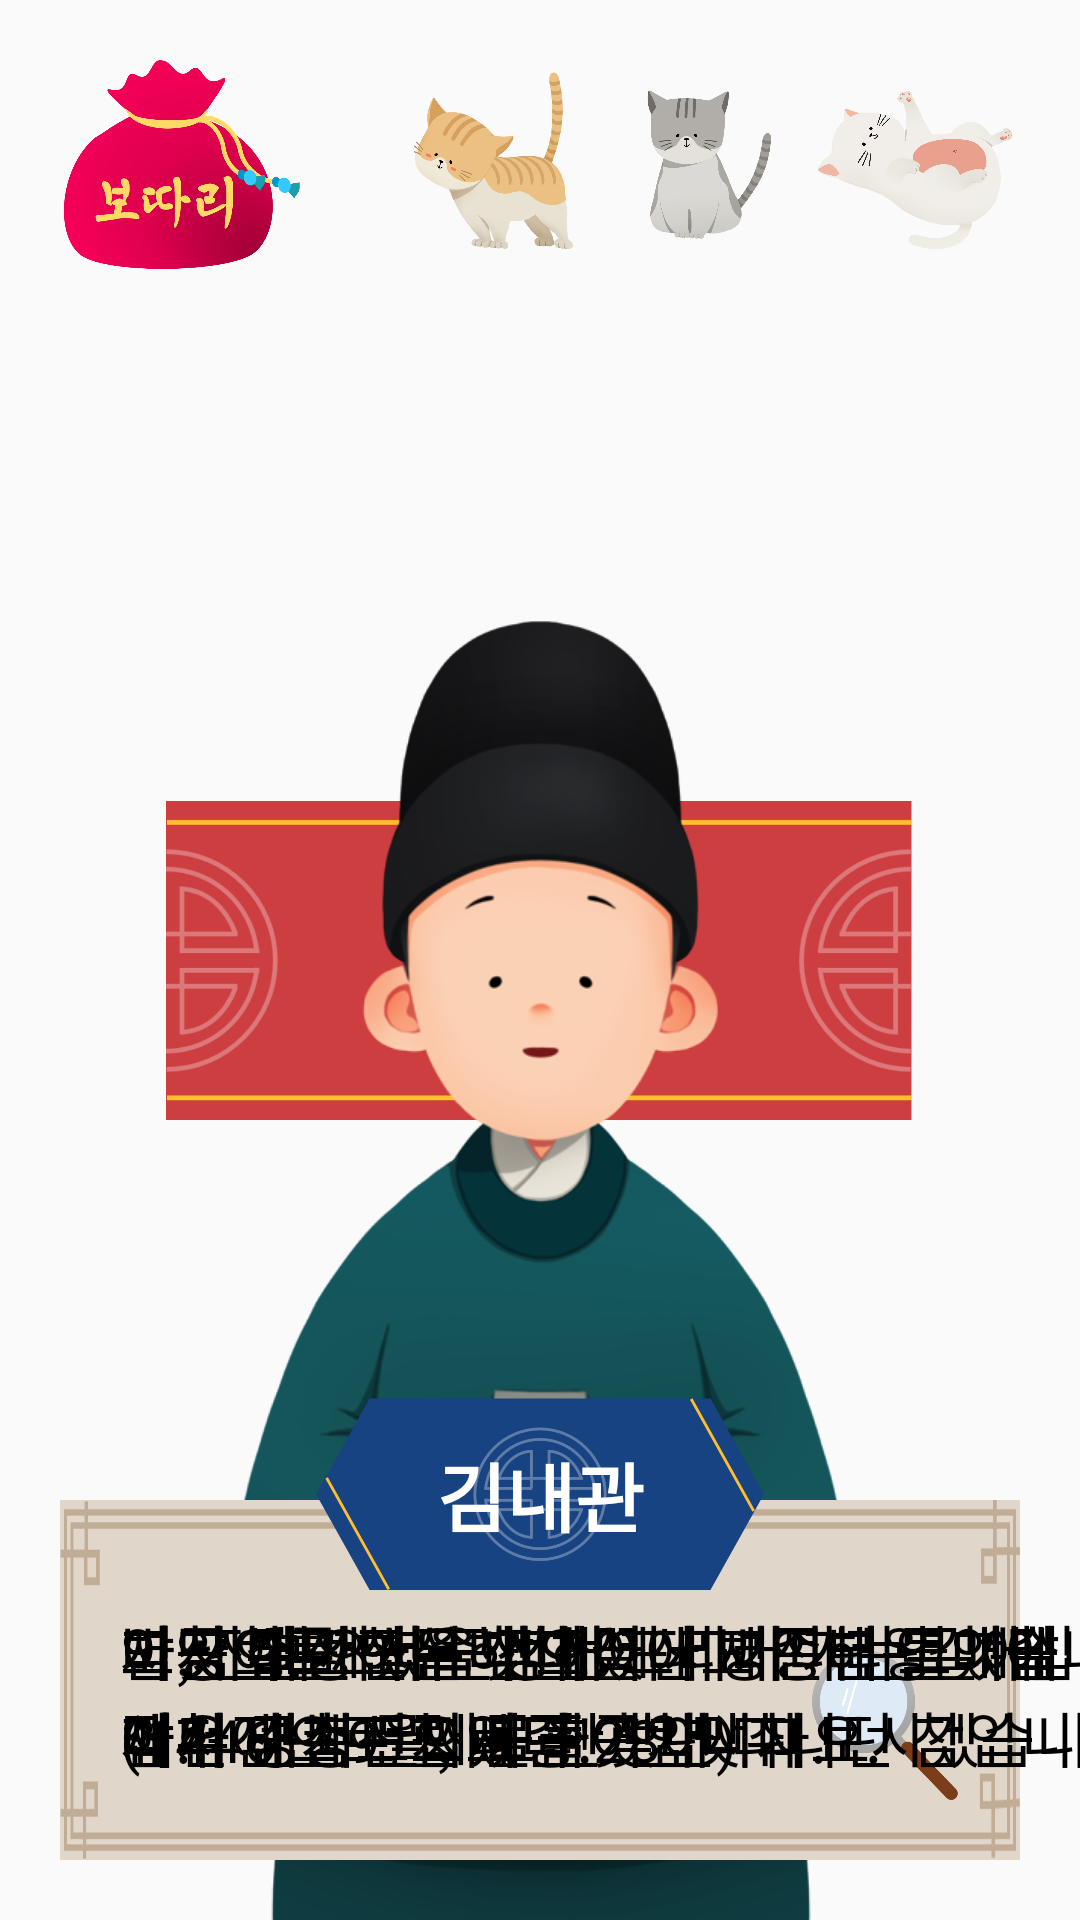

Point at icon controls on the screen. Image size 1080x1920, points as point (x, y).
cat: point (493, 160), point (709, 165), point (915, 160)
